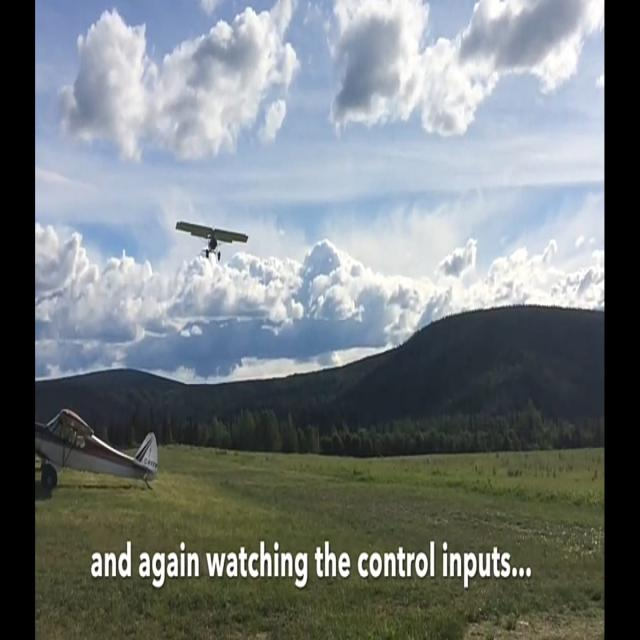iha: (210, 219, 213, 262)
